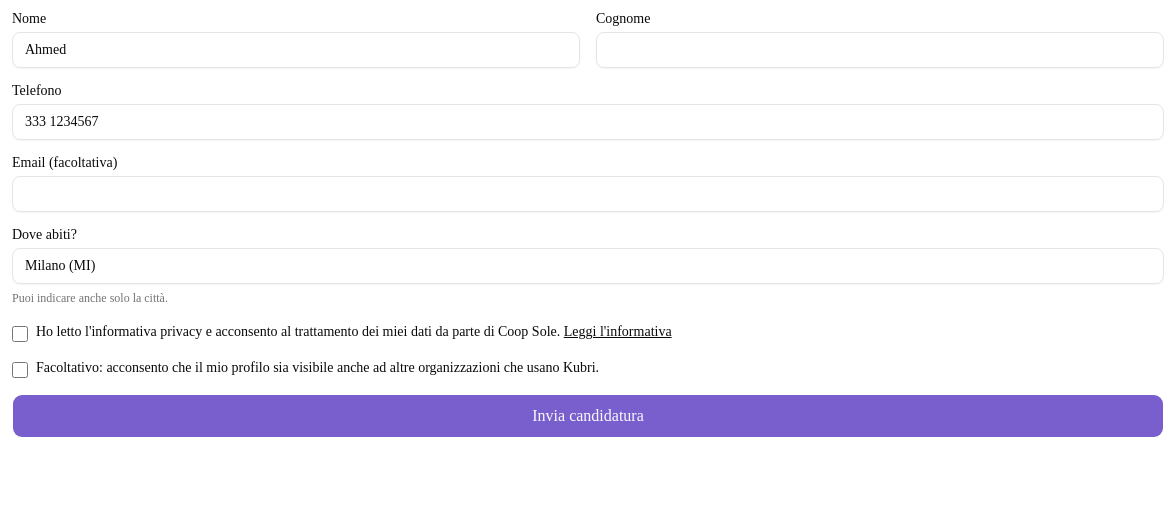
Test: ContactForm › blocks submit without last name and consent
Click the button "Invia candidatura".
click(588, 416)  # box x1=12 y1=394 x2=1164 y2=438
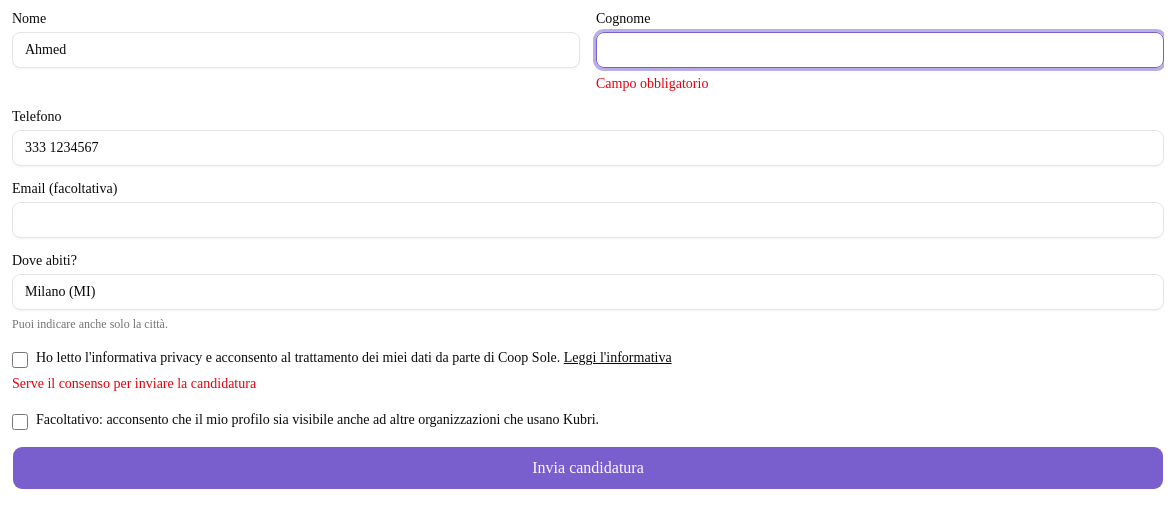
Expected: the text "Campo obbligatorio" is shown, x1=596 y1=76 x2=708 y2=91
Expected: the text "Serve il consenso per inviare la candidatura" is shown, x1=12 y1=376 x2=256 y2=391
